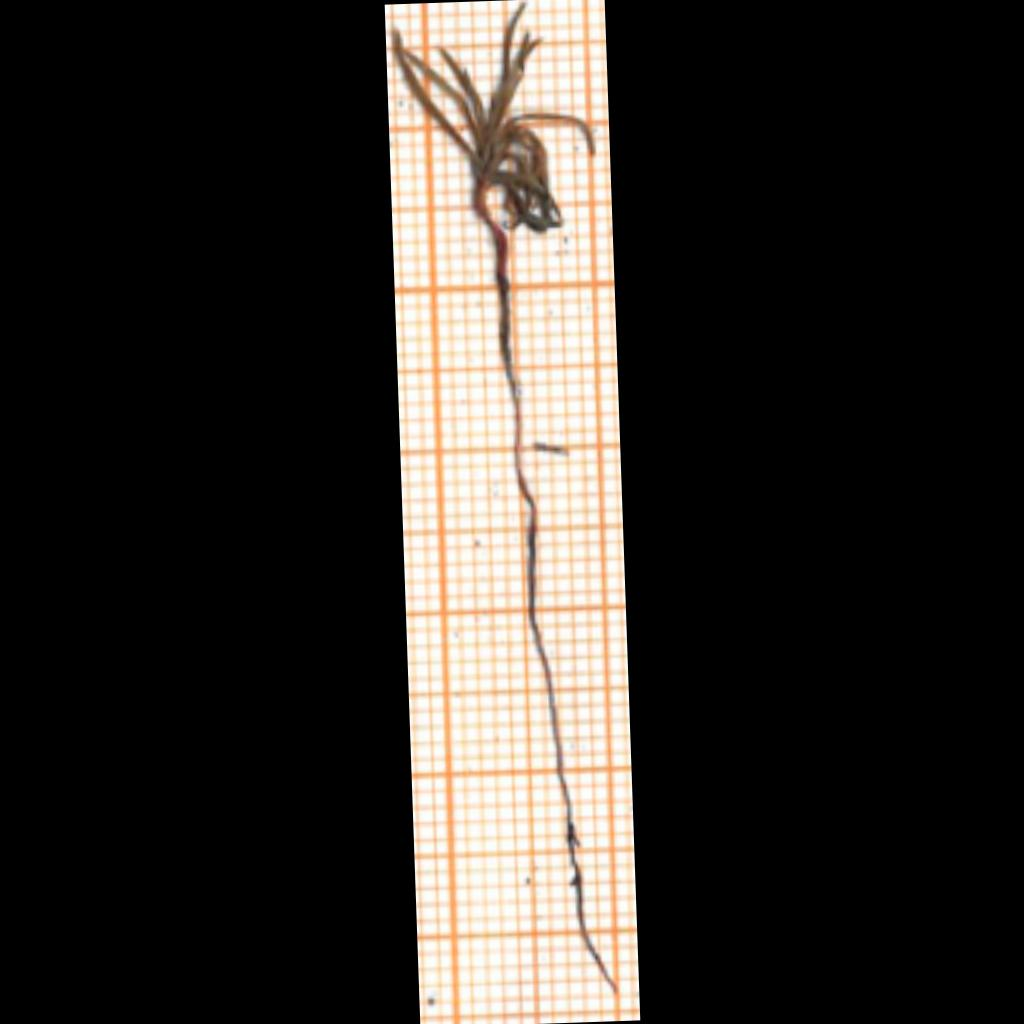flowerPinus: (395, 6, 595, 231)
rootPinus: (515, 447, 616, 992)
stemPinus: (474, 182, 519, 437)
